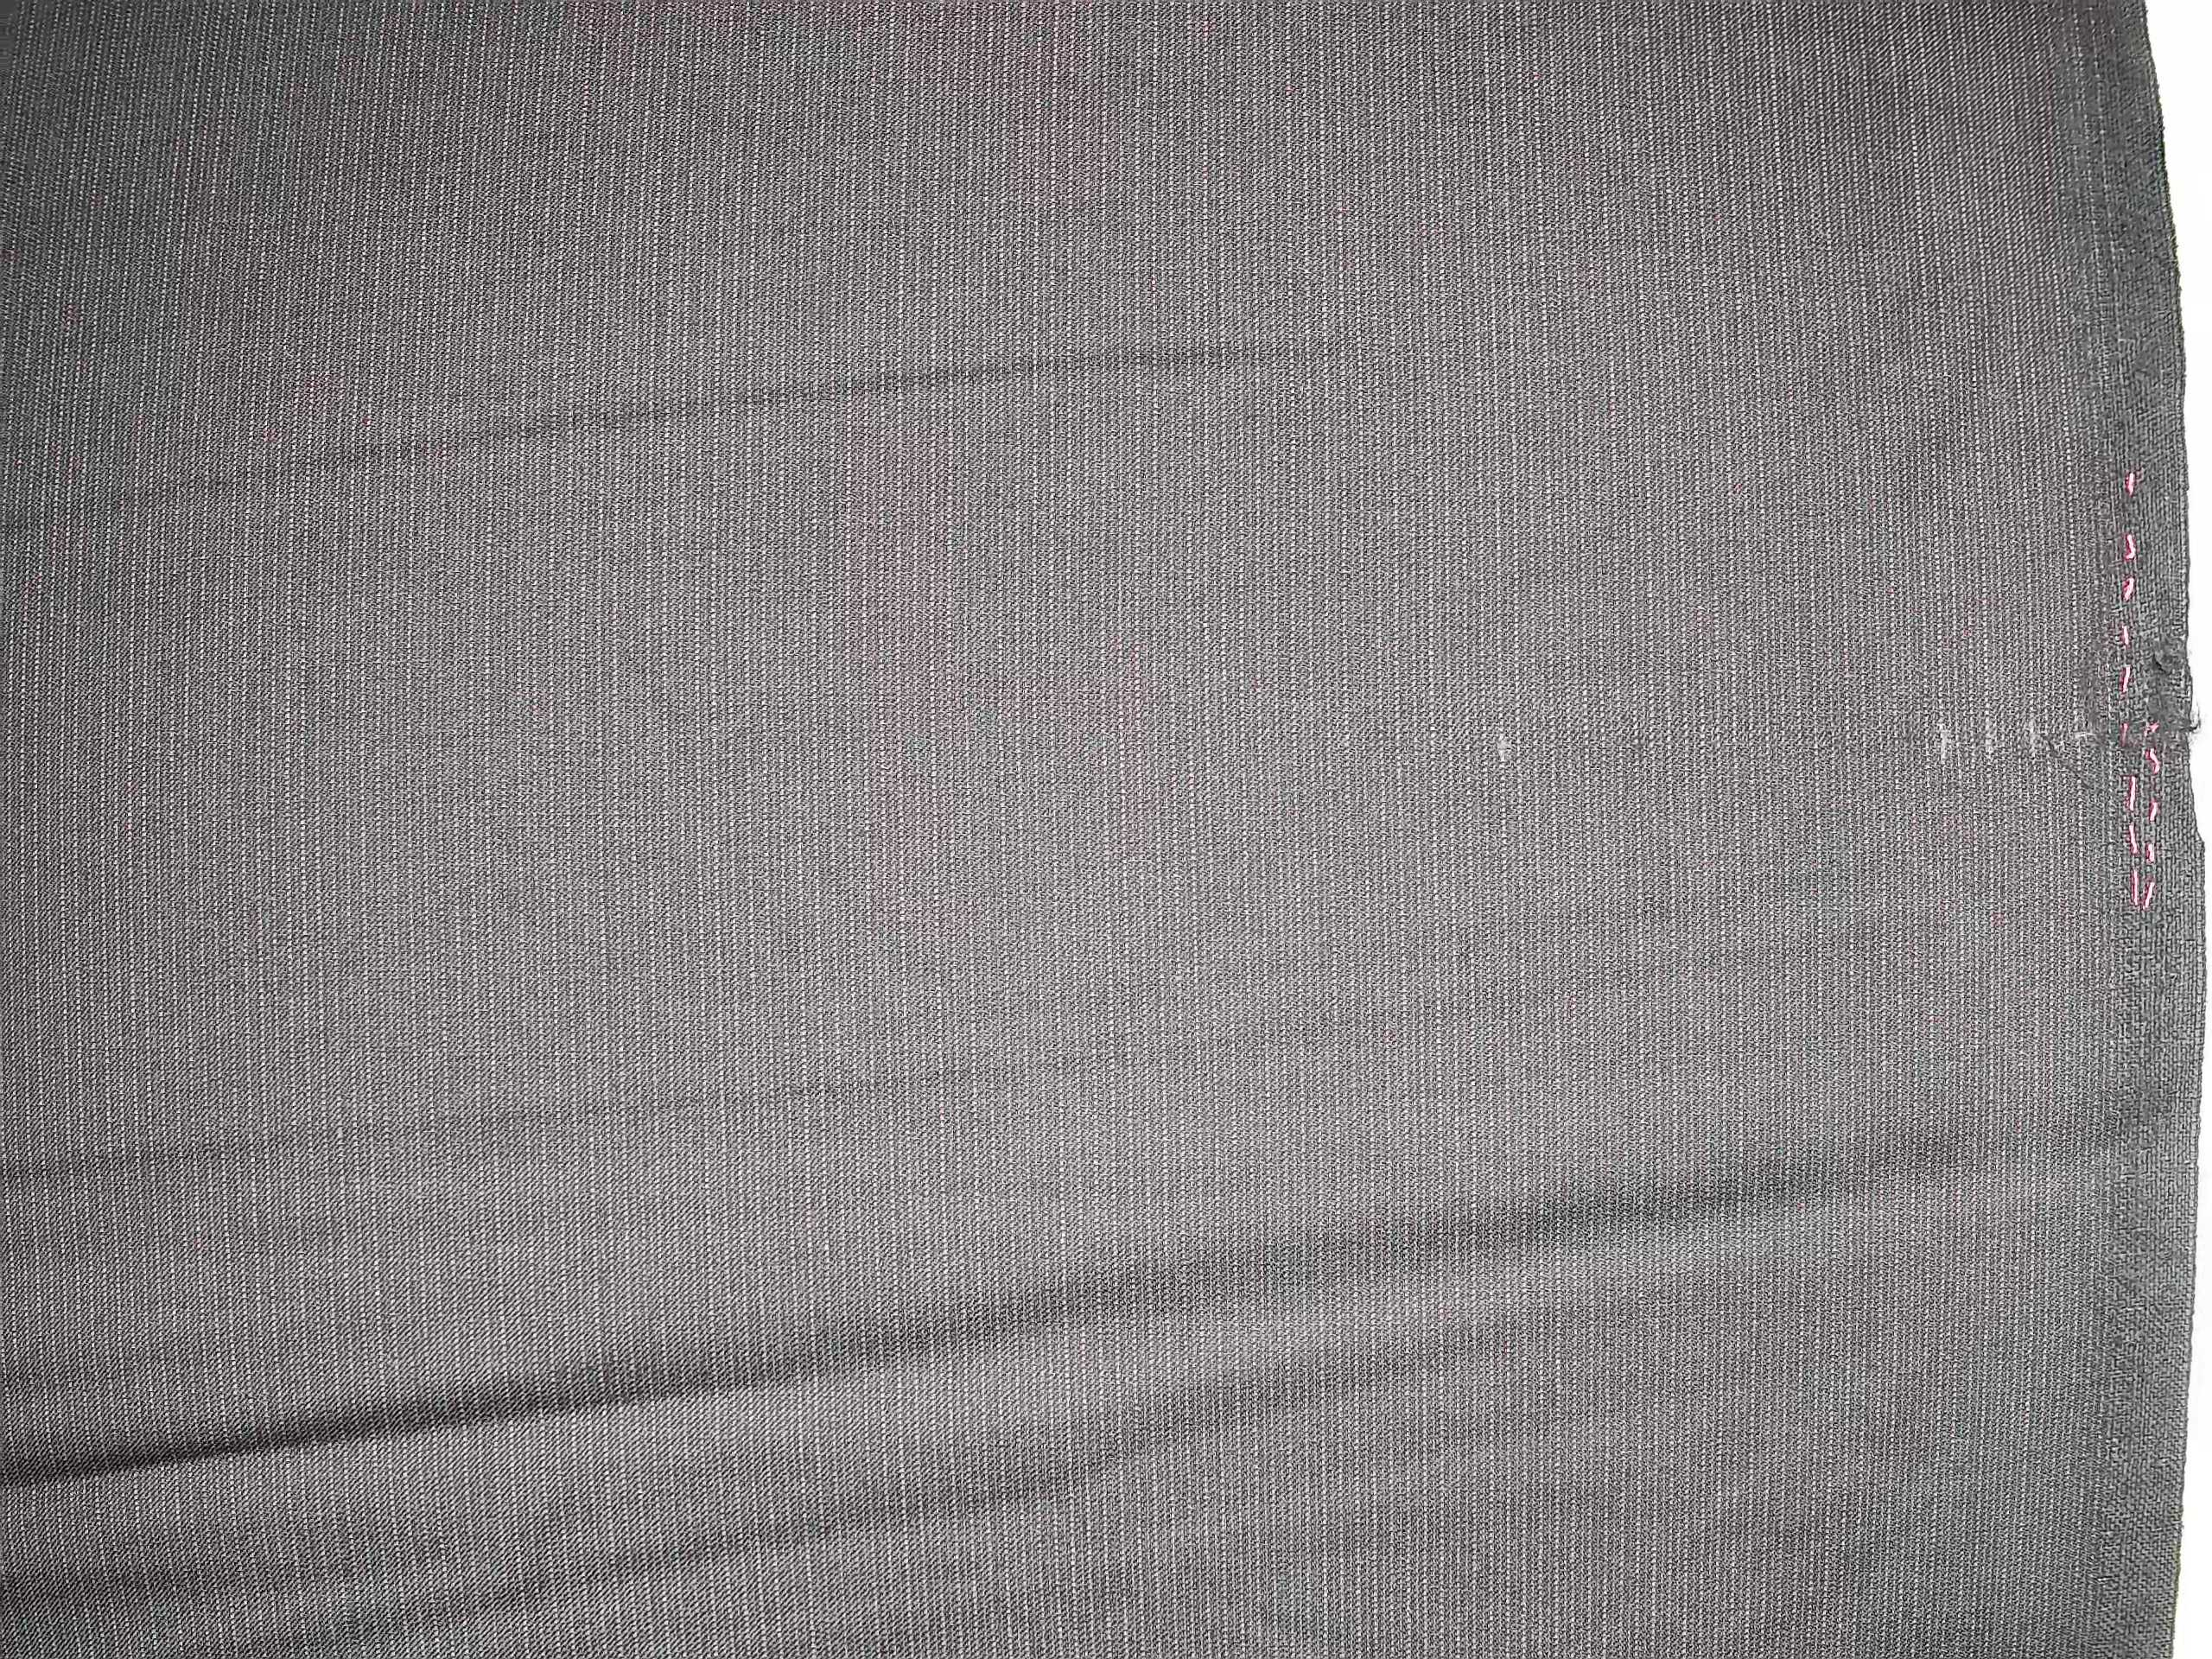thin-spinning: (1911, 676, 2130, 802), (1477, 704, 1538, 798)
